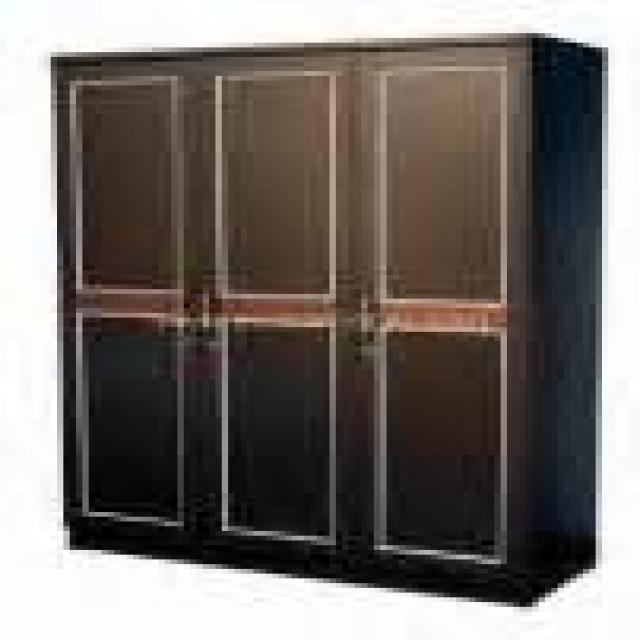Closet: (39, 29, 614, 616)
